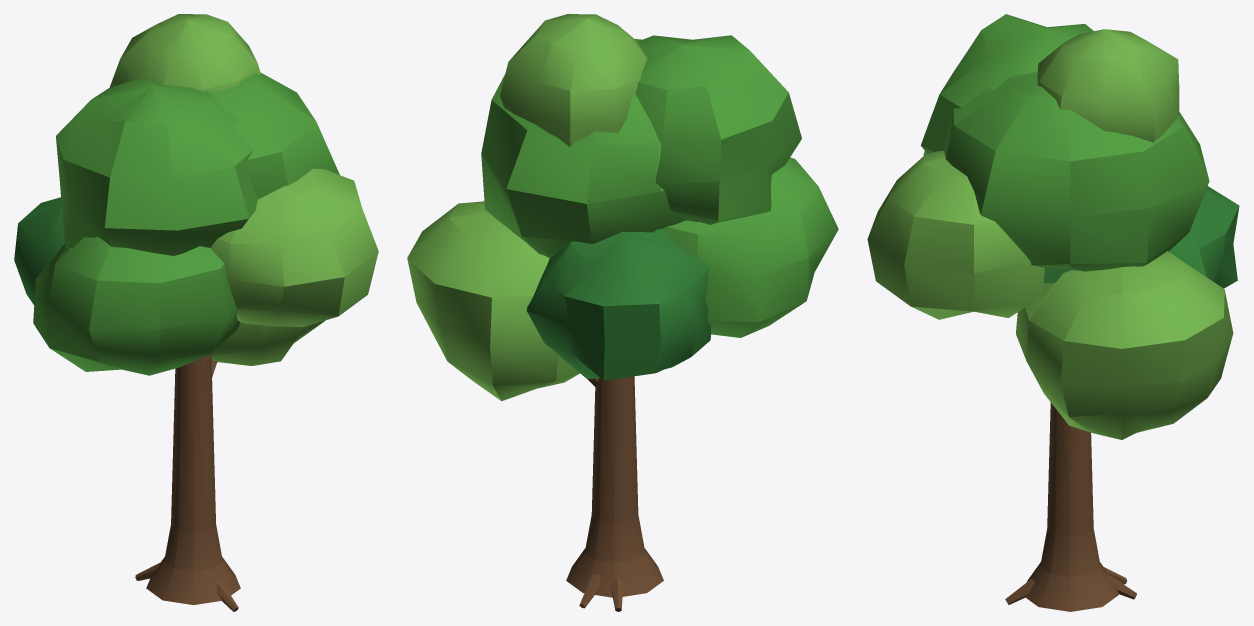
Rendered from baum_laub_3.obj.
3 renders of one model, left to right at view 1: azimuth 30°, elevation 25°; view 2: azimuth 150°, elevation 25°; view 3: azimuth 270°, elevation 25°, orthographic. The views are drawn at different scales.
Parts seen in each view (by area): view 1: baum_laub_3_Koerper; view 2: baum_laub_3_Koerper; view 3: baum_laub_3_Koerper.
Part boxes in pixels (box(x1,y1,x2,y2)): baum_laub_3_Koerper: box(14, 14, 378, 611); baum_laub_3_Koerper: box(407, 14, 838, 611); baum_laub_3_Koerper: box(867, 14, 1239, 611).
Bounding box in the file's own units: 3.31 × 5.38 × 3.15.
